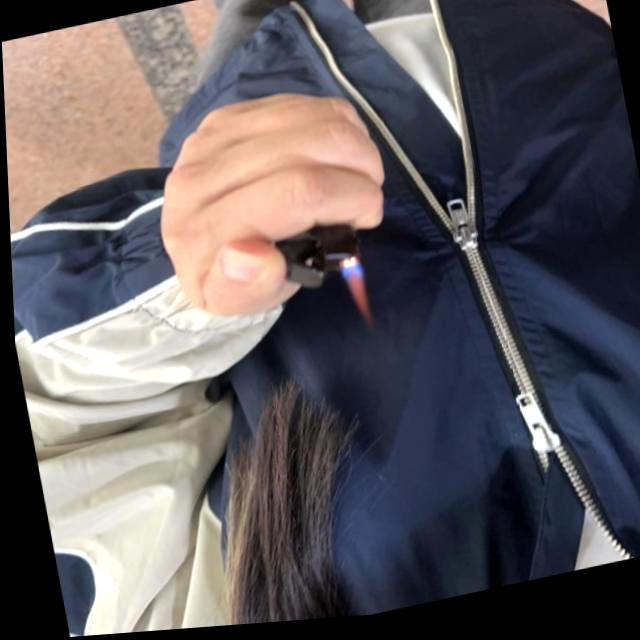fire: (340, 267, 372, 329)
